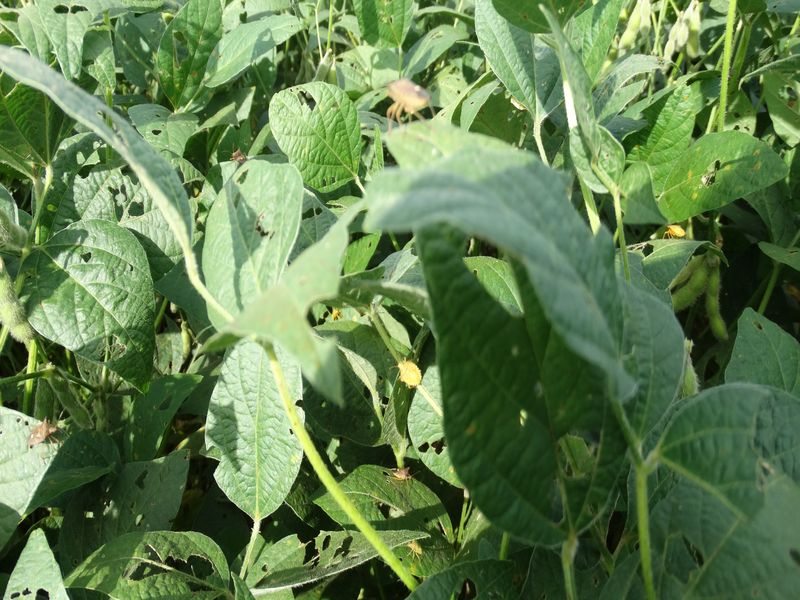Euschistus_heros_adulto: (370, 71, 445, 137), (20, 414, 68, 456), (386, 463, 418, 488), (224, 143, 251, 169)
Euschistus_heros_ninfa: (386, 353, 435, 396)
